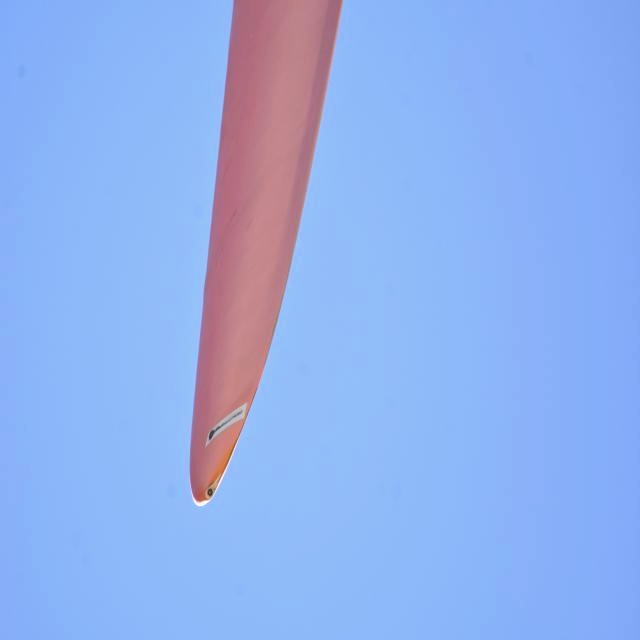Coating_defects: (203, 480, 219, 504)
Crack: (219, 409, 246, 440)
